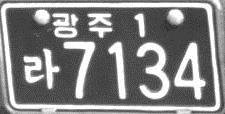1: (108, 39, 128, 100), (132, 10, 147, 39)
3: (136, 40, 174, 100)
4: (173, 42, 207, 102)
7: (62, 39, 97, 100)
광주_O: (50, 11, 114, 39)
라: (21, 48, 60, 89)
